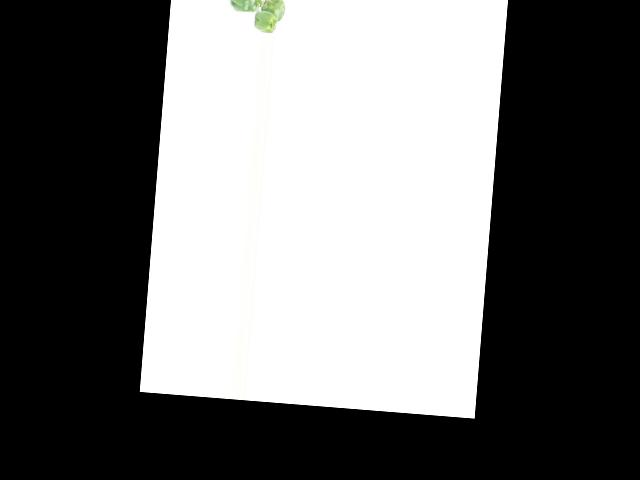bell_pepper: (251, 8, 277, 34)
